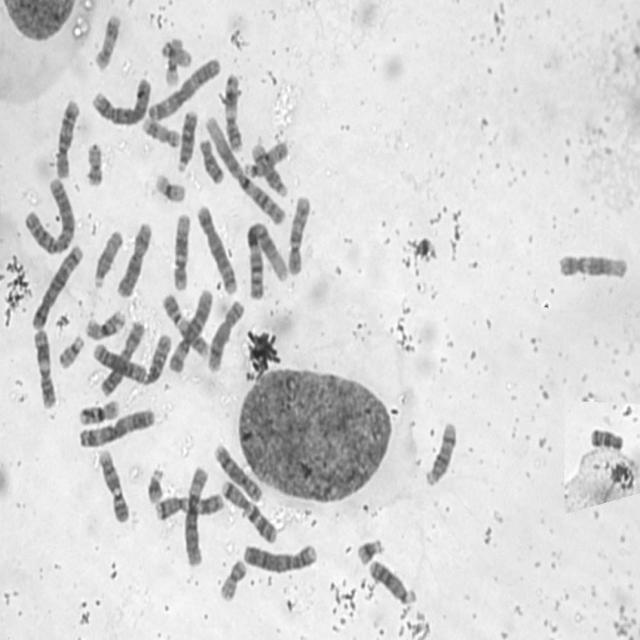A1: (200, 110, 288, 227), (242, 216, 290, 301)
A2: (90, 326, 174, 389), (21, 173, 77, 257)
A3: (144, 52, 223, 122), (75, 403, 157, 450)
B4: (88, 72, 154, 128), (240, 538, 320, 574)
B5: (28, 239, 86, 331), (194, 199, 239, 296)
C10: (52, 92, 81, 180), (284, 189, 312, 277)
C11: (30, 323, 58, 410), (222, 68, 244, 153)
C12: (555, 247, 631, 281), (170, 208, 192, 292)
C6: (165, 284, 216, 376), (181, 461, 210, 568)
C7: (218, 475, 280, 544), (153, 488, 227, 522)
C8: (204, 295, 247, 374), (211, 439, 264, 503)
C9: (160, 290, 211, 360), (95, 443, 131, 524)
D13: (366, 554, 419, 606), (173, 105, 200, 173)
D14: (422, 416, 458, 488), (248, 138, 290, 199)
D15: (90, 225, 124, 291), (242, 135, 290, 180)
E16: (83, 305, 127, 341), (76, 395, 122, 426)
E17: (91, 8, 123, 71), (140, 113, 182, 149)
E18: (196, 135, 226, 185), (587, 422, 625, 453)
F19: (152, 168, 187, 204), (162, 32, 184, 88)
F20: (216, 554, 248, 602), (83, 136, 105, 188)
G21: (353, 532, 386, 566), (144, 462, 167, 506)
G22: (56, 330, 85, 370), (158, 36, 194, 68)
X: (98, 317, 147, 398), (114, 216, 154, 300)
